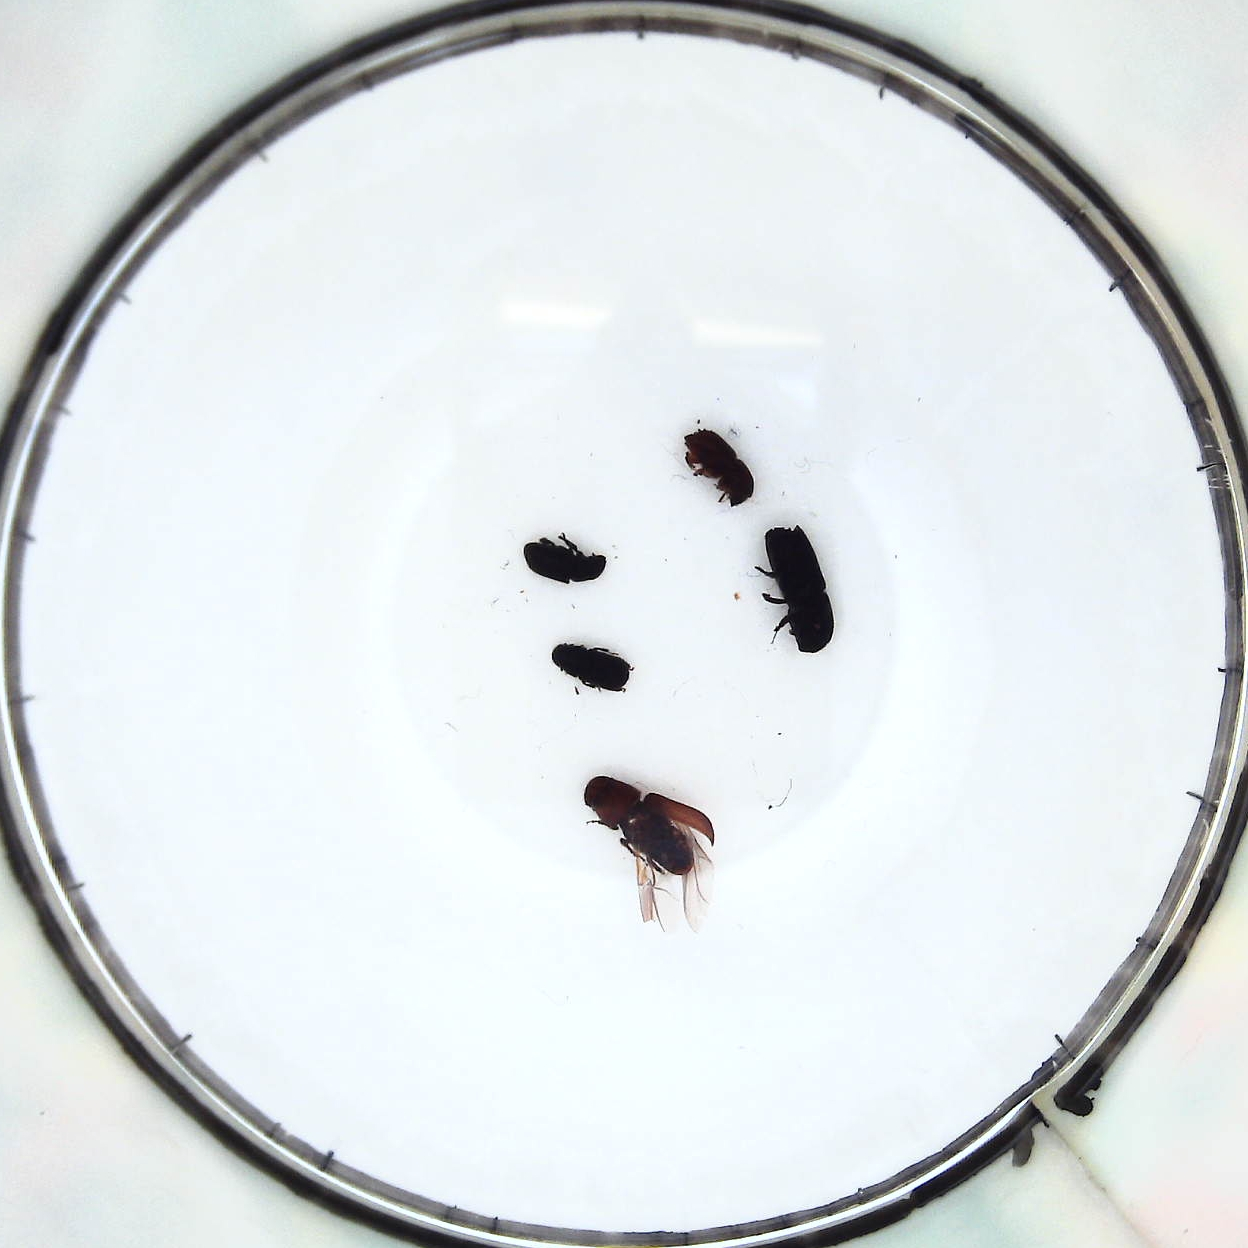Boerner: (760, 523, 835, 661)
Leconte: (584, 768, 715, 917)
Linnaeus: (693, 429, 755, 504)
armandi: (528, 531, 609, 587), (549, 641, 631, 693)
